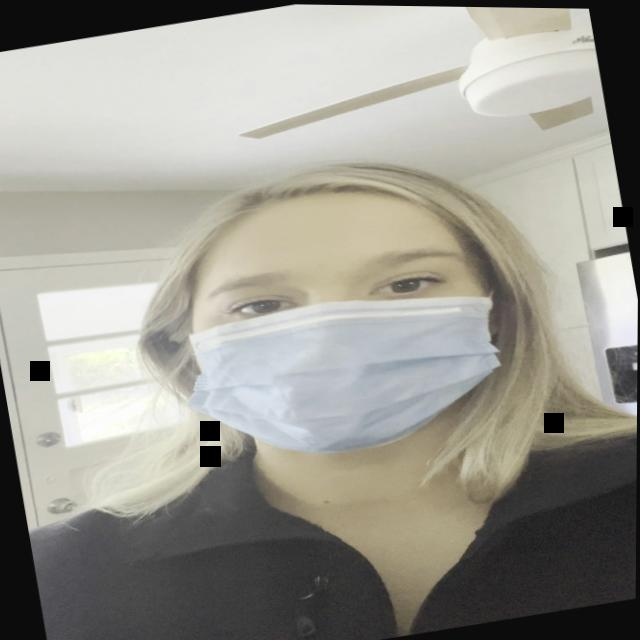Mask: (154, 158, 519, 477)
